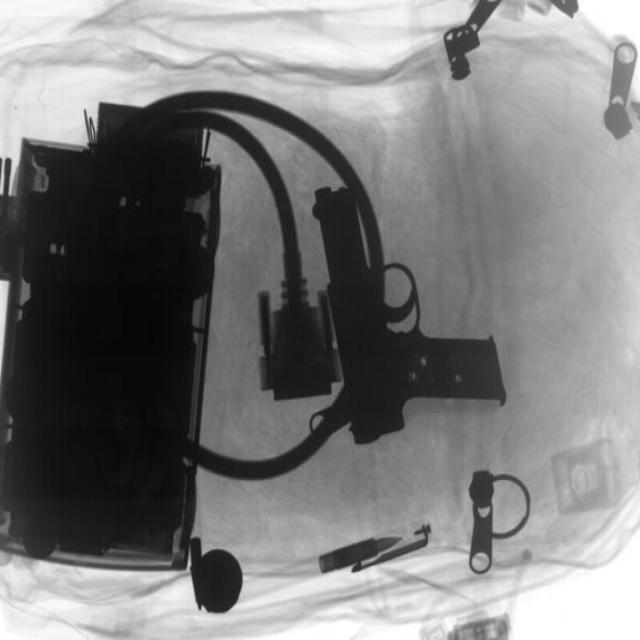GUN: (309, 177, 503, 442)
